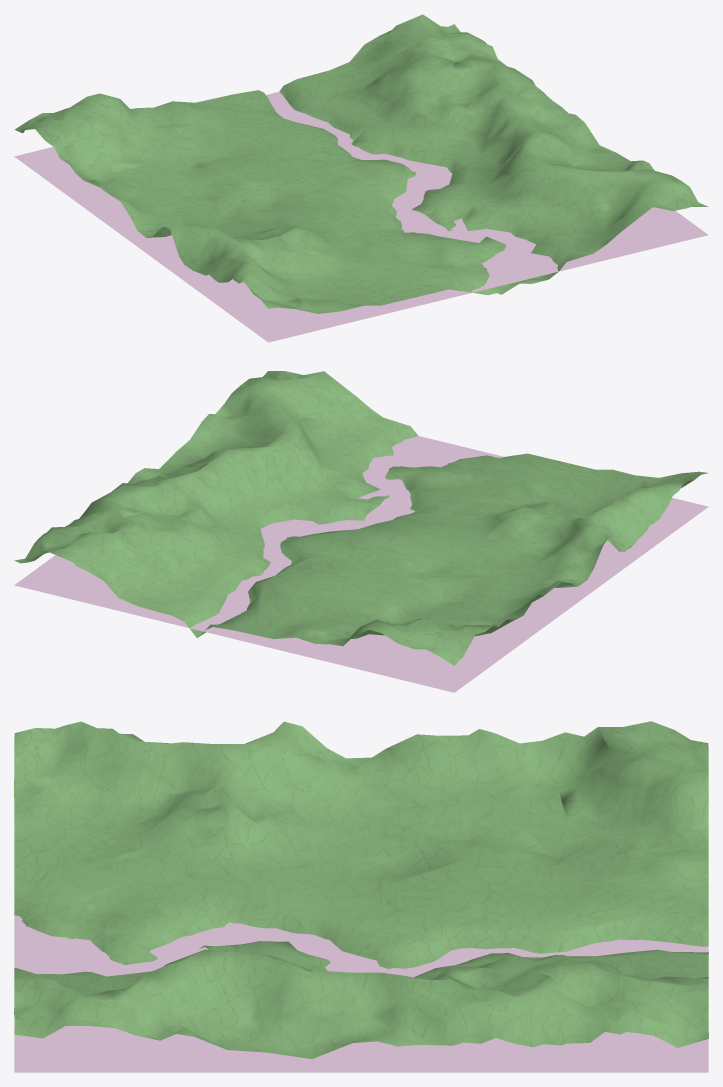
The model's file is river22.fbx.
3 renders of one model, top to bottom at view 1: azimuth 30°, elevation 25°; view 2: azimuth 150°, elevation 25°; view 3: azimuth 270°, elevation 25°, orthographic. The views are drawn at different scales.
Parts seen in each view (by area): view 1: Landscape.001, Landscape_plane.001; view 2: Landscape.001, Landscape_plane.001; view 3: Landscape.001, Landscape_plane.001.
Part boxes in pixels (x1,y1,x2,y2): Landscape.001: (14, 14, 708, 313); Landscape_plane.001: (14, 92, 708, 342); Landscape.001: (14, 371, 708, 665); Landscape_plane.001: (14, 436, 708, 692); Landscape.001: (14, 721, 708, 1058); Landscape_plane.001: (14, 915, 708, 1072).
Bounding box in the file's own units: 8900 × 1019 × 8880.
